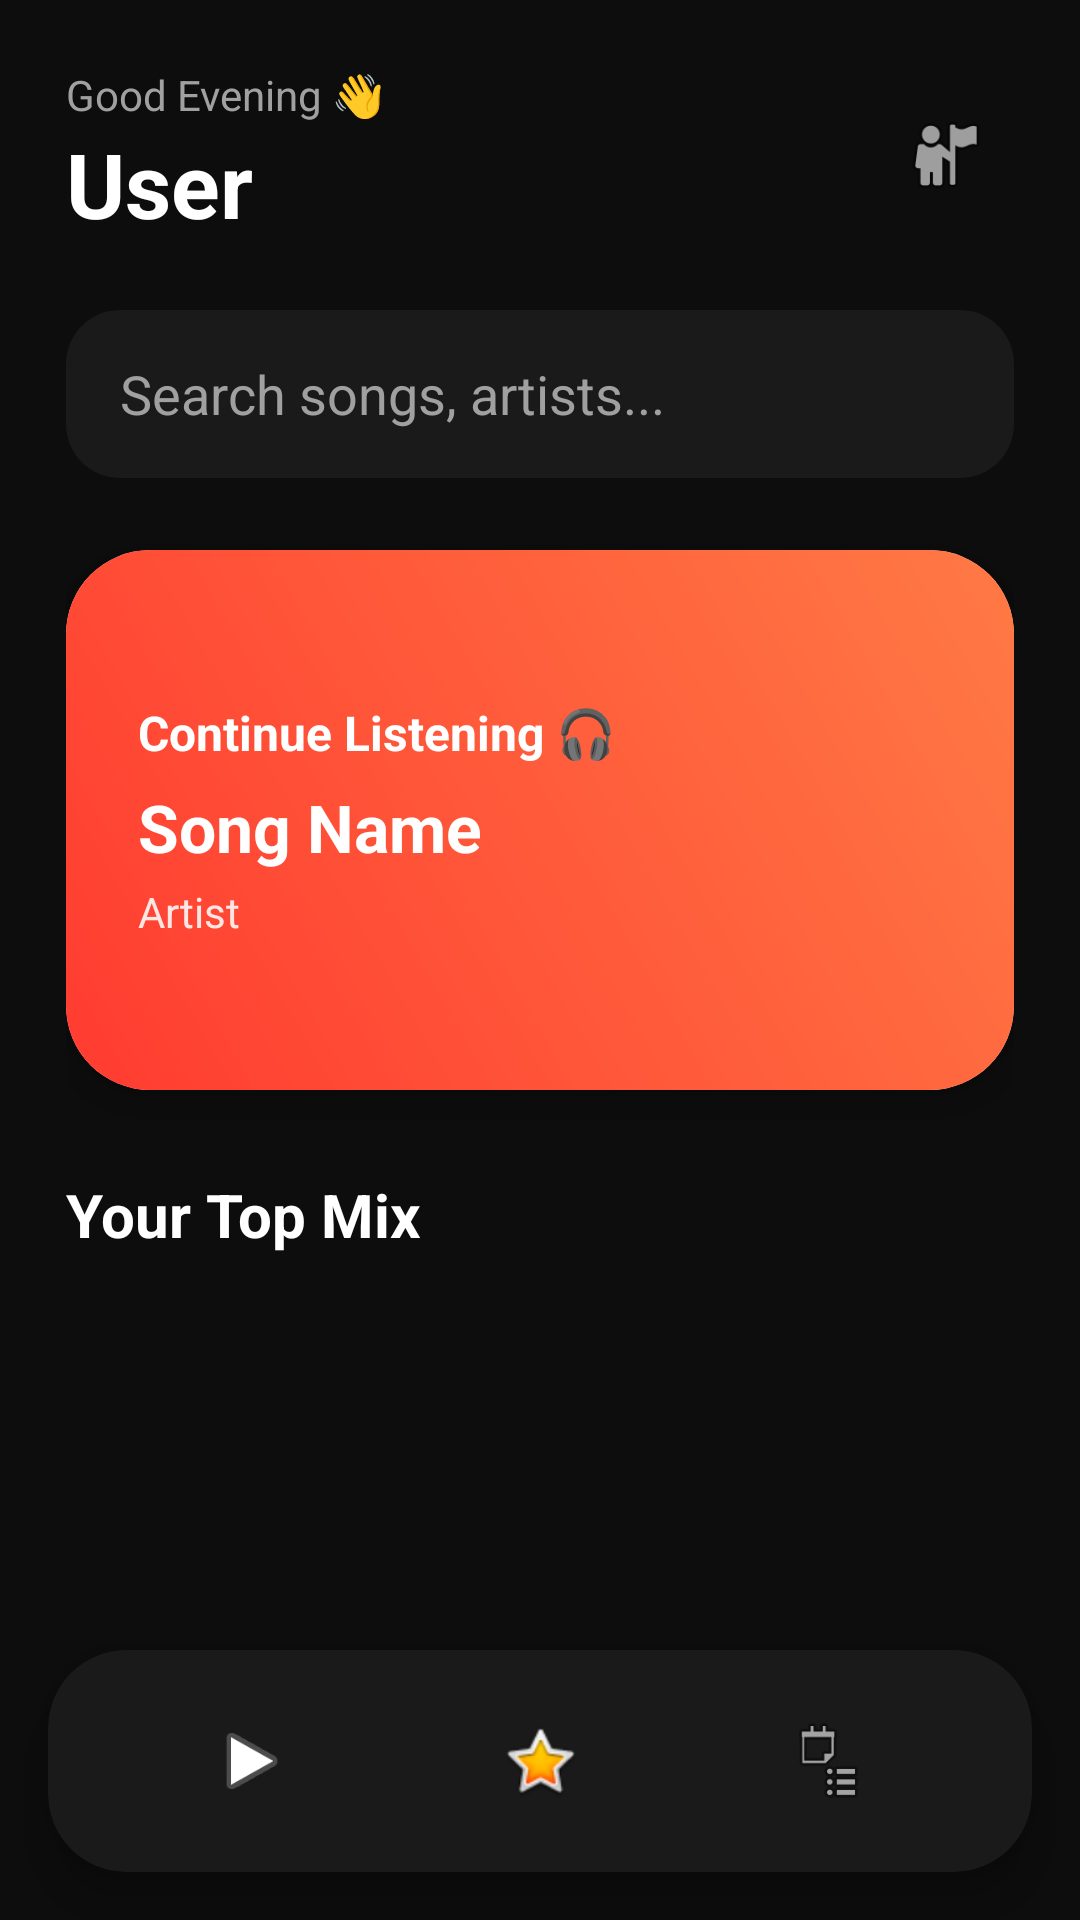

Where to tap for icons on this 1080×1920 app screen, as (x,y):
agenda: (828,1760)
myplaces: (946,155)
play: (252,1761)
star on: (540,1761)
